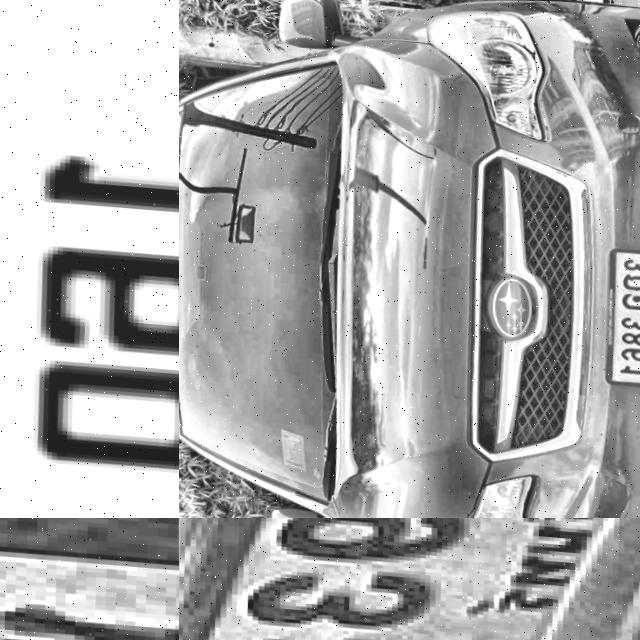license-plate: (0, 0, 179, 518), (179, 518, 640, 640), (0, 518, 179, 640), (588, 243, 640, 393)
